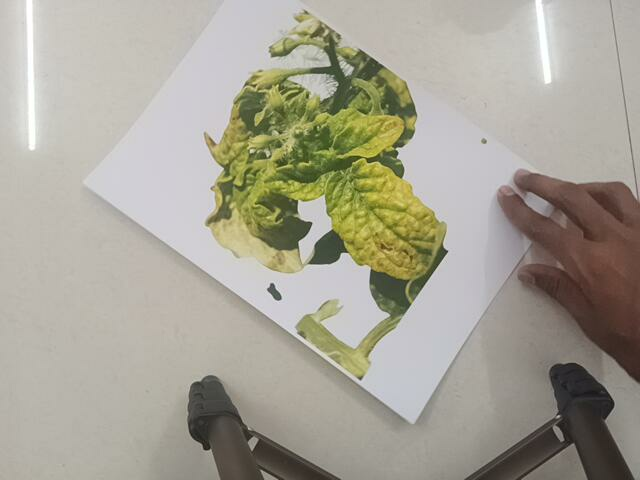Tomamto_Leaf_curl_virus: (196, 19, 461, 372)
